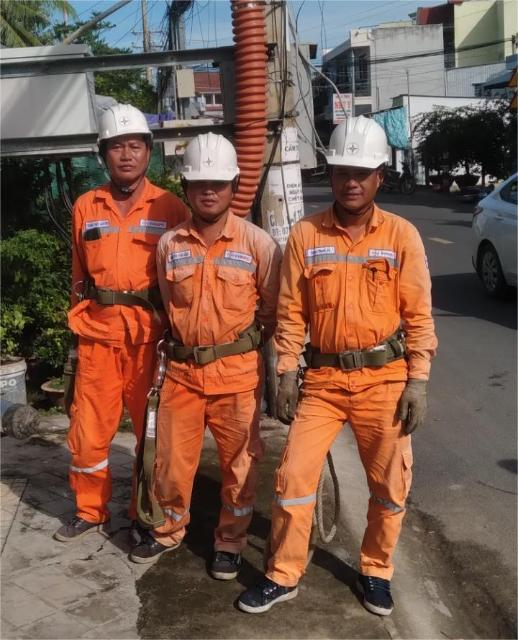gloves: (390, 367, 437, 440), (267, 373, 306, 426)
harness: (273, 327, 397, 377), (144, 319, 254, 375), (80, 279, 158, 320)
helmet: (82, 97, 169, 164), (320, 108, 395, 177), (181, 126, 241, 194)
shoes: (53, 489, 110, 546), (234, 571, 299, 614), (347, 564, 399, 615), (124, 518, 180, 562), (198, 536, 247, 584), (121, 513, 146, 546)
